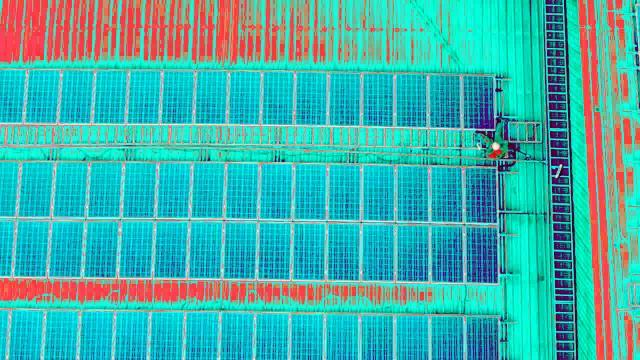dirty: (22, 68, 61, 123), (59, 69, 98, 124), (91, 67, 130, 122), (124, 67, 163, 122), (157, 67, 196, 122), (192, 70, 231, 125), (224, 70, 263, 125), (258, 69, 297, 124), (294, 70, 333, 125), (323, 69, 362, 124), (359, 70, 398, 125), (391, 70, 430, 125), (422, 72, 461, 127), (457, 75, 496, 130), (462, 171, 501, 226), (465, 228, 504, 283), (427, 168, 466, 223), (392, 164, 431, 219), (355, 165, 394, 220), (324, 163, 363, 218), (292, 166, 331, 221), (256, 162, 295, 217), (223, 163, 262, 218), (187, 164, 226, 219), (151, 163, 190, 218), (119, 162, 158, 217), (86, 161, 125, 216), (50, 162, 89, 217), (12, 162, 51, 217), (10, 217, 49, 272), (47, 222, 86, 277), (80, 222, 119, 277), (115, 220, 154, 275), (147, 222, 186, 277), (185, 221, 224, 276), (218, 221, 257, 276), (253, 223, 292, 278), (288, 221, 327, 276), (327, 225, 366, 280), (362, 222, 401, 277), (387, 224, 426, 279), (424, 221, 463, 276), (7, 310, 47, 359), (41, 311, 81, 360), (75, 311, 115, 360), (110, 311, 150, 360), (147, 311, 187, 360), (180, 311, 220, 360), (219, 309, 259, 358), (253, 311, 293, 360), (288, 311, 328, 360), (333, 311, 373, 360), (325, 311, 365, 360), (359, 311, 399, 360), (389, 311, 429, 360), (464, 316, 504, 360), (430, 314, 466, 360)
